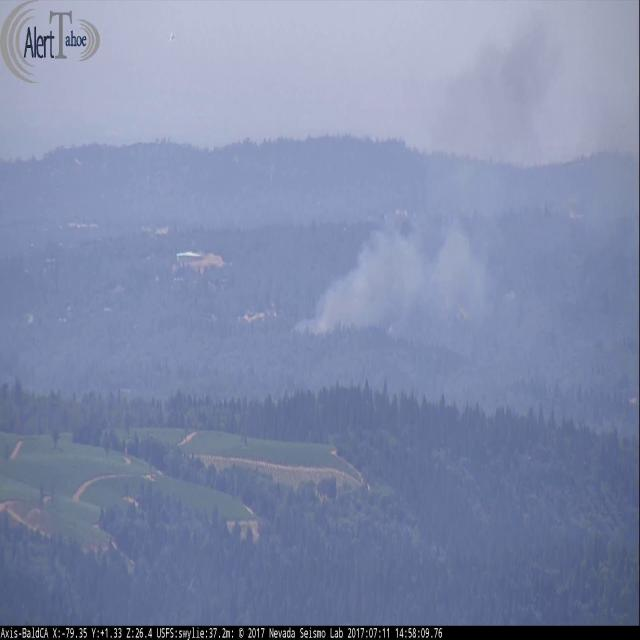smoke: (289, 0, 560, 343)
